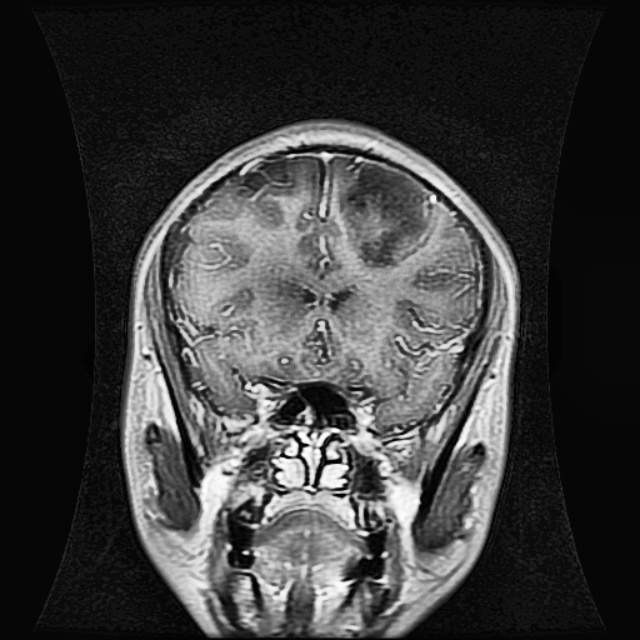Meningioma: (334, 158, 434, 268)
